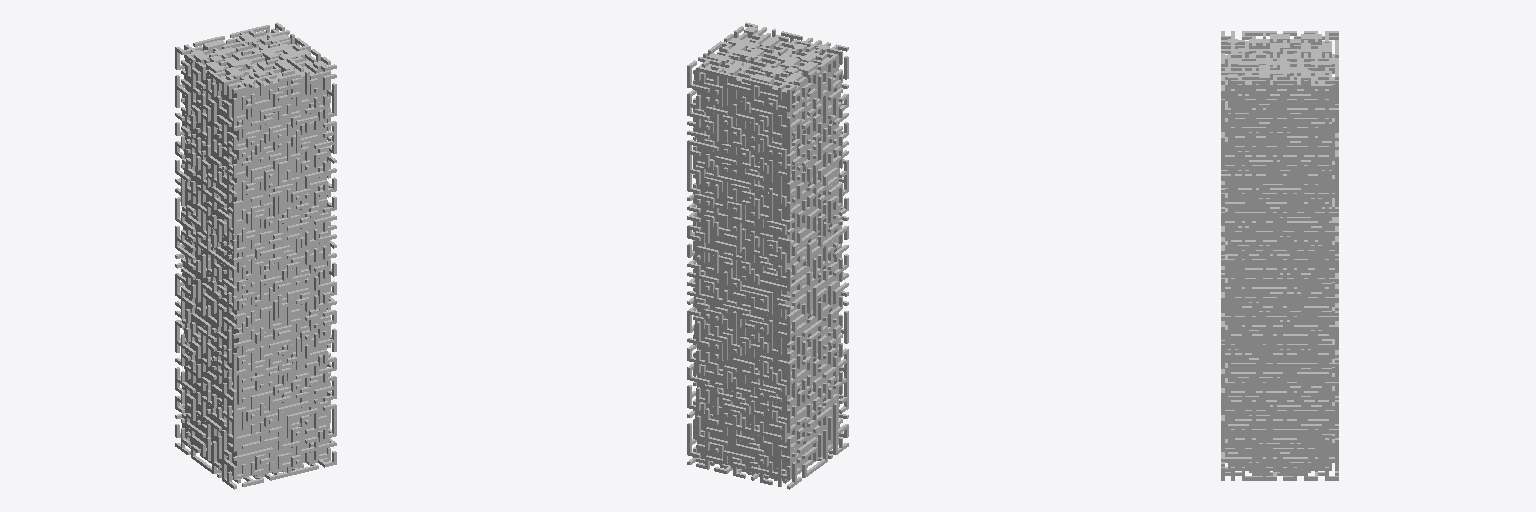
File: pylone.obj
3 renders of one model, left to right at view 1: azimuth 30°, elevation 25°; view 2: azimuth 150°, elevation 25°; view 3: azimuth 270°, elevation 25°, orthographic.
Parts seen in each view (by area): view 1: object 1; view 2: object 1; view 3: object 1.
Boxes of the visible parts, x1=… form: object 1: x1=175, y1=22, x2=336, y2=489; object 1: x1=687, y1=22, x2=848, y2=489; object 1: x1=1221, y1=31, x2=1338, y2=480.
Size of the model in its own units: 3.4 by 12.7 by 3.4.